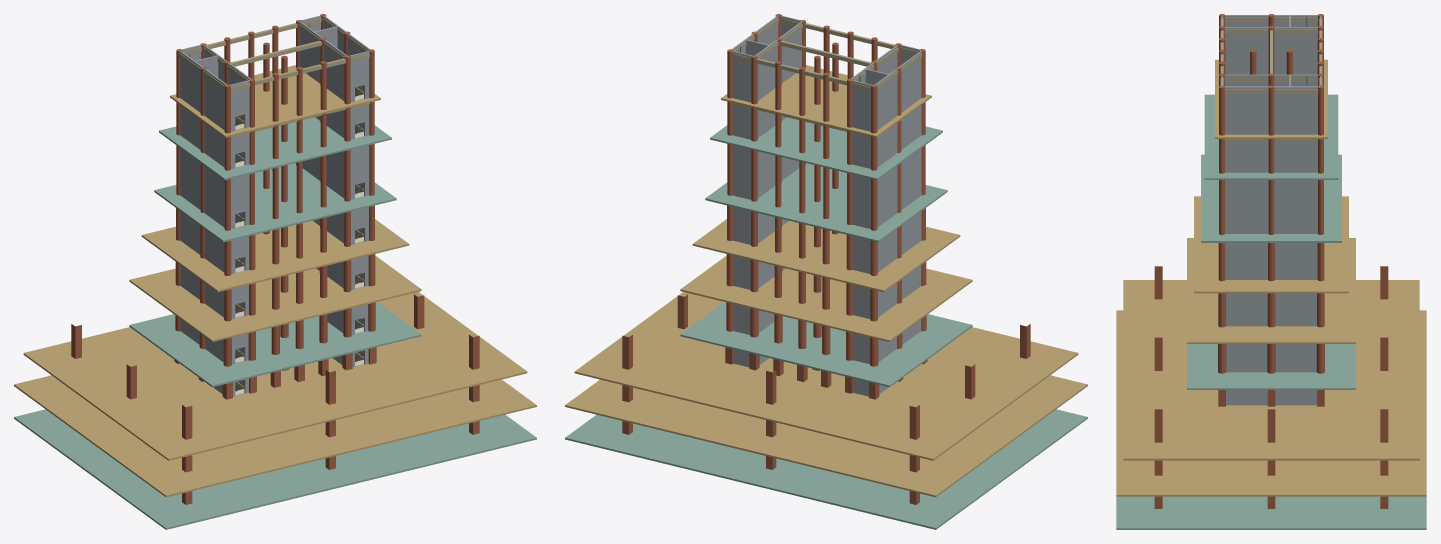
File: guanque-interior.glb
3 views of the same model, side by side, from view 1: azimuth 30°, elevation 25°; view 2: azimuth 150°, elevation 25°; view 3: azimuth 270°, elevation 25° (orthographic). The views are drawn at different scales.
Visible parts, largest first — view 1: 台基三层 / 楼板 · 推定标高, 台基二层 / 楼板 · 推定标高, 台基一层 / 楼板 · 有标高依据, 楼身二层 / 楼板 · 推定标高, 楼身一层 / 楼板 · 有标高依据, 楼身六层 / 剪力墙 · 位置尺寸示意, 楼身三层 / 楼板 · 推定标高, 楼身四层 / 楼板 · 有标高依据, 楼身四层 / 剪力墙 · 位置尺寸示意, 楼身六层 / 内柱 · 布点示意, 楼身五层 / 楼板 · 有标高依据, 楼身六层 / 楼板 · 推定标高 (+11 smaller); view 2: 台基三层 / 楼板 · 推定标高, 台基二层 / 楼板 · 推定标高, 台基一层 / 楼板 · 有标高依据, 楼身二层 / 楼板 · 推定标高, 楼身一层 / 楼板 · 有标高依据, 楼身六层 / 剪力墙 · 位置尺寸示意, 楼身三层 / 楼板 · 推定标高, 楼身四层 / 楼板 · 有标高依据, 楼身四层 / 剪力墙 · 位置尺寸示意, 楼身六层 / 内柱 · 布点示意, 楼身五层 / 楼板 · 有标高依据, 楼身六层 / 楼板 · 推定标高 (+12 smaller); view 3: 台基三层 / 楼板 · 推定标高, 台基二层 / 楼板 · 推定标高, 台基一层 / 楼板 · 有标高依据, 楼身六层 / 剪力墙 · 位置尺寸示意, 楼身二层 / 楼板 · 推定标高, 楼身一层 / 楼板 · 有标高依据, 楼身四层 / 剪力墙 · 位置尺寸示意, 楼身三层 / 楼板 · 推定标高, 楼身四层 / 楼板 · 有标高依据, 楼身三层 / 剪力墙 · 位置尺寸示意, 楼身五层 / 楼板 · 有标高依据, 楼身五层 / 剪力墙 · 位置尺寸示意 (+13 smaller).
Boxes of the visible parts, left/top/right/bottom form: 台基三层 / 楼板 · 推定标高: left=23, top=292, right=527, bottom=460; 台基二层 / 楼板 · 推定标高: left=14, top=375, right=536, bottom=497; 台基一层 / 楼板 · 有标高依据: left=14, top=409, right=536, bottom=529; 楼身二层 / 楼板 · 推定标高: left=129, top=256, right=421, bottom=341; 楼身一层 / 楼板 · 有标高依据: left=129, top=302, right=421, bottom=387; 楼身六层 / 剪力墙 · 位置尺寸示意: left=179, top=15, right=370, bottom=131; 楼身三层 / 楼板 · 推定标高: left=141, top=219, right=409, bottom=292; 楼身四层 / 楼板 · 有标高依据: left=154, top=163, right=396, bottom=242; 楼身四层 / 剪力墙 · 位置尺寸示意: left=180, top=129, right=369, bottom=228; 楼身六层 / 内柱 · 布点示意: left=176, top=14, right=374, bottom=133; 楼身五层 / 楼板 · 有标高依据: left=159, top=117, right=391, bottom=180; 楼身六层 / 楼板 · 推定标高: left=170, top=65, right=380, bottom=137; 台基三层 / 楼板 · 推定标高: left=574, top=292, right=1078, bottom=460; 台基二层 / 楼板 · 推定标高: left=565, top=375, right=1087, bottom=497; 台基一层 / 楼板 · 有标高依据: left=565, top=409, right=1087, bottom=529; 楼身二层 / 楼板 · 推定标高: left=680, top=256, right=972, bottom=341; 楼身一层 / 楼板 · 有标高依据: left=680, top=302, right=972, bottom=387; 楼身六层 / 剪力墙 · 位置尺寸示意: left=731, top=15, right=921, bottom=131; 楼身三层 / 楼板 · 推定标高: left=692, top=219, right=960, bottom=292; 楼身四层 / 楼板 · 有标高依据: left=705, top=163, right=947, bottom=242; 楼身四层 / 剪力墙 · 位置尺寸示意: left=732, top=145, right=921, bottom=228; 楼身六层 / 内柱 · 布点示意: left=727, top=14, right=925, bottom=133; 楼身五层 / 楼板 · 有标高依据: left=710, top=117, right=942, bottom=180; 楼身六层 / 楼板 · 推定标高: left=721, top=65, right=931, bottom=137; 台基三层 / 楼板 · 推定标高: left=1123, top=280, right=1419, bottom=460; 台基二层 / 楼板 · 推定标高: left=1116, top=310, right=1426, bottom=496; 台基一层 / 楼板 · 有标高依据: left=1116, top=496, right=1426, bottom=529; 楼身六层 / 剪力墙 · 位置尺寸示意: left=1221, top=15, right=1321, bottom=134; 楼身二层 / 楼板 · 推定标高: left=1187, top=238, right=1355, bottom=343; 楼身一层 / 楼板 · 有标高依据: left=1187, top=344, right=1355, bottom=389; 楼身四层 / 剪力墙 · 位置尺寸示意: left=1225, top=180, right=1317, bottom=233; 楼身三层 / 楼板 · 推定标高: left=1194, top=196, right=1348, bottom=293; 楼身四层 / 楼板 · 有标高依据: left=1201, top=154, right=1341, bottom=242; 楼身三层 / 剪力墙 · 位置尺寸示意: left=1225, top=243, right=1317, bottom=279; 楼身五层 / 楼板 · 有标高依据: left=1204, top=94, right=1338, bottom=179; 楼身五层 / 剪力墙 · 位置尺寸示意: left=1225, top=140, right=1317, bottom=172.
Bounding box in the file's own units: 62 × 60.48 × 44.
